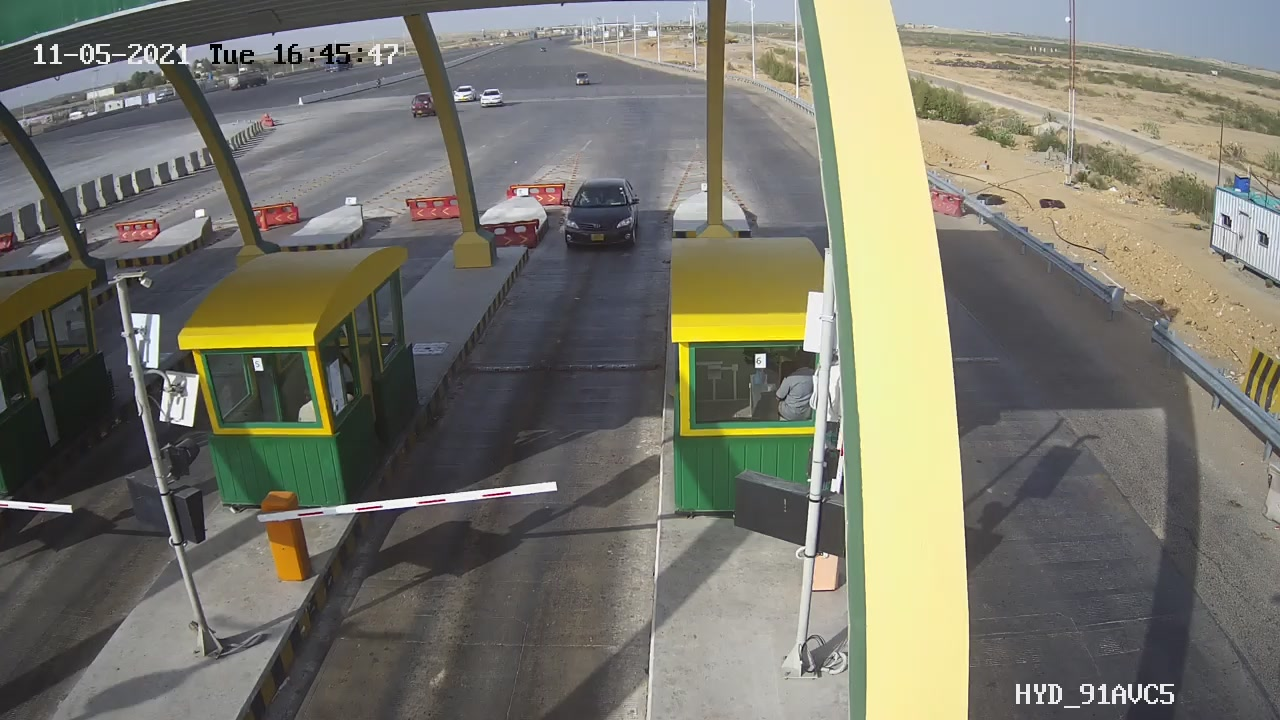F1: (542, 167, 661, 264)
